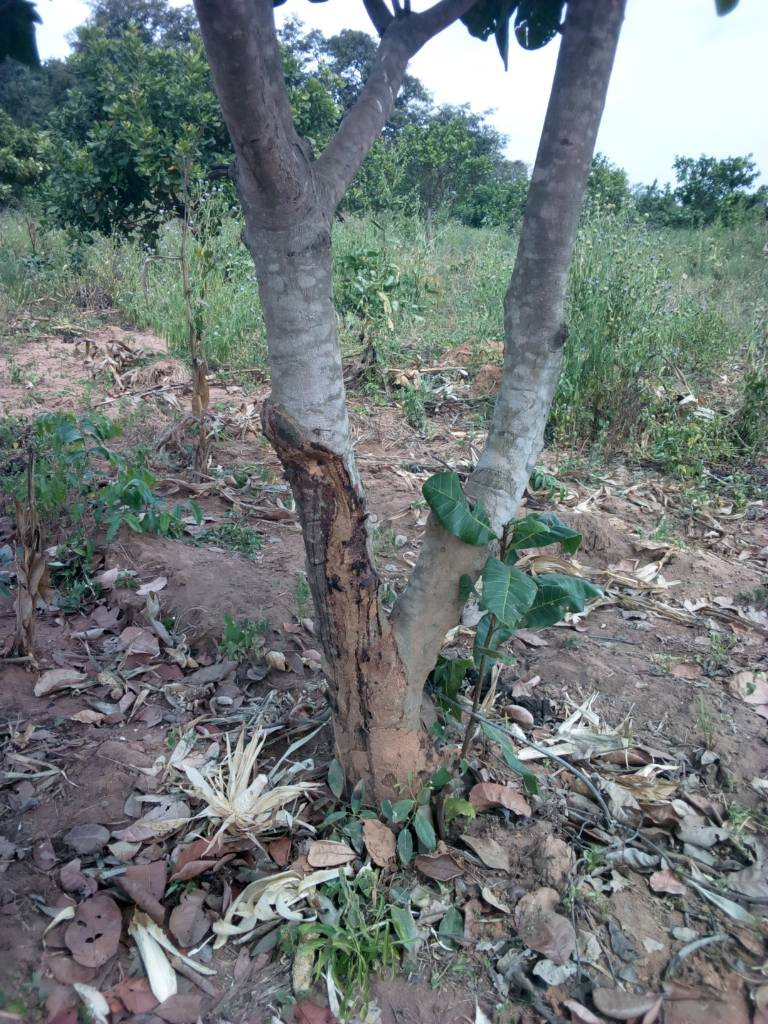Termites: (330, 497, 418, 791)
